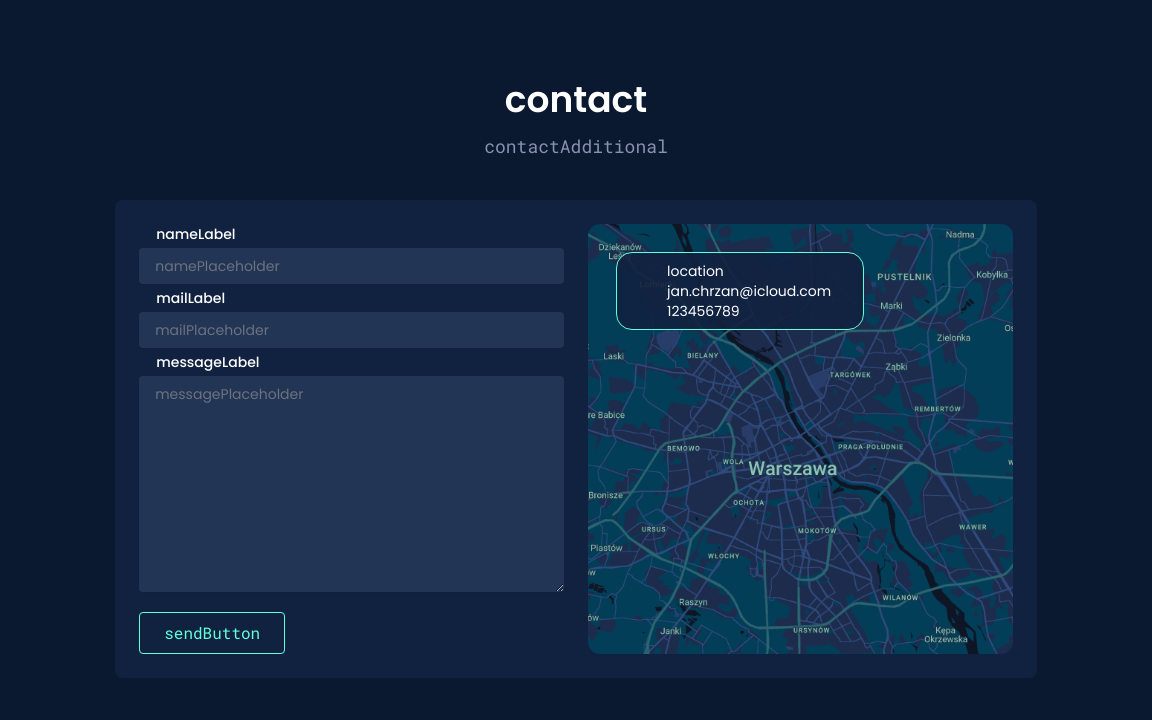
Test case: Contact › Displays error message when email is invalid
Type "test" into the field with placeholder "namePlaceholder". click: point(352, 266)
box: [139,248,564,284]
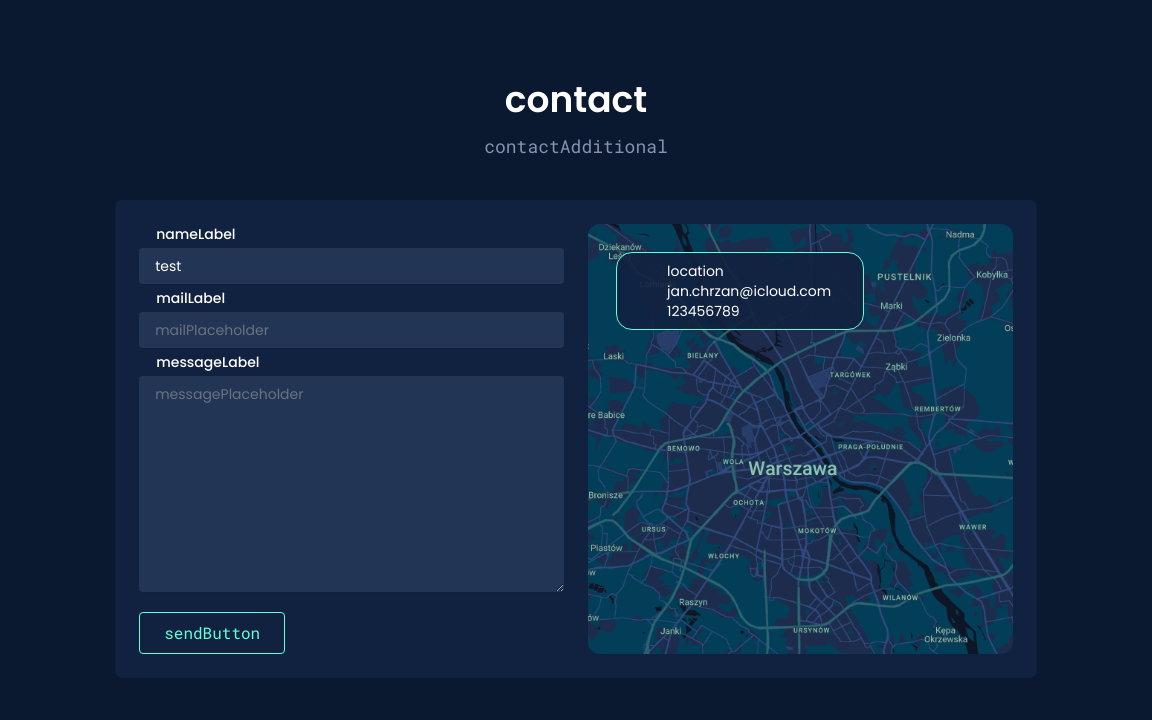
Type "test" into the field with placeholder "mailPlaceholder". click: point(352, 330)
box: [139,312,564,348]
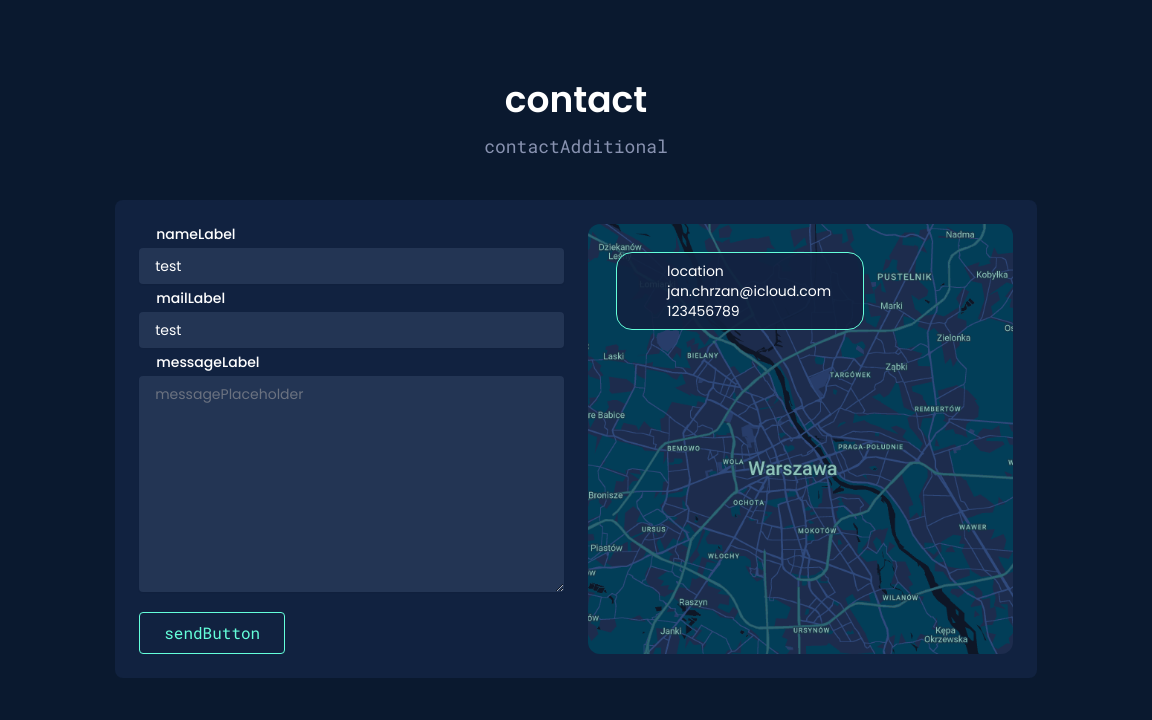
Type "test" into the text box with placeholder "messagePlaceholder". click: point(352, 484)
box: [139,376,564,592]
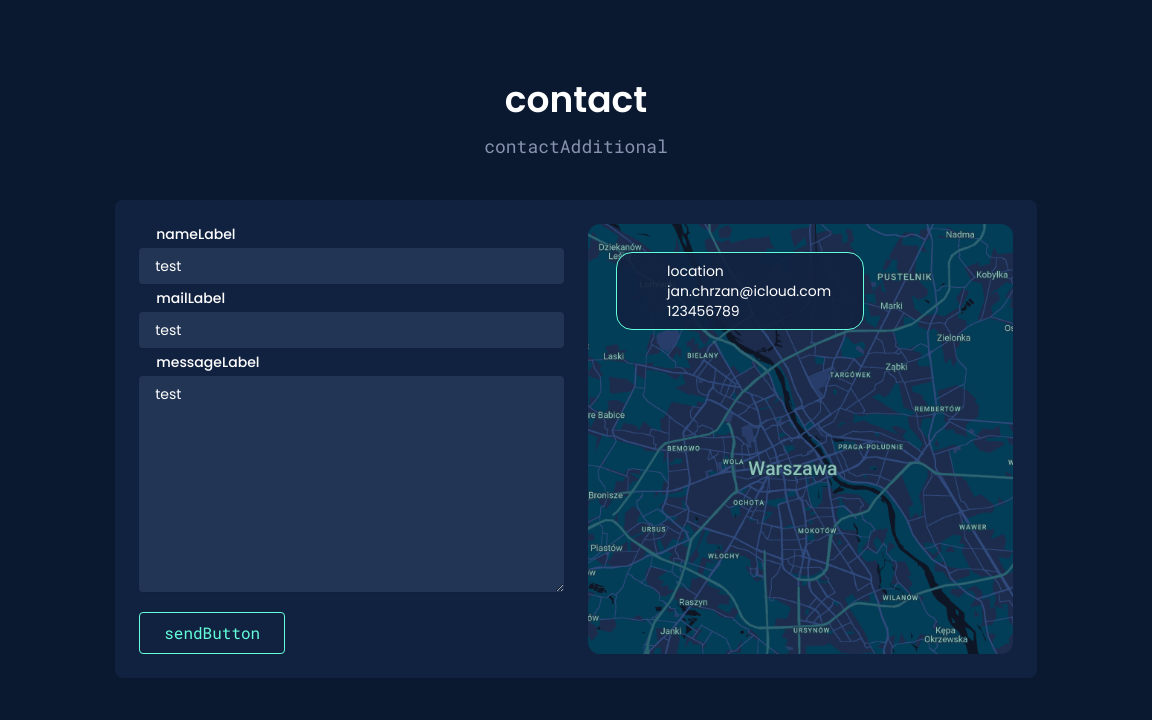
Click the button "sendButton". click: point(212, 633)
box: [139,612,285,654]
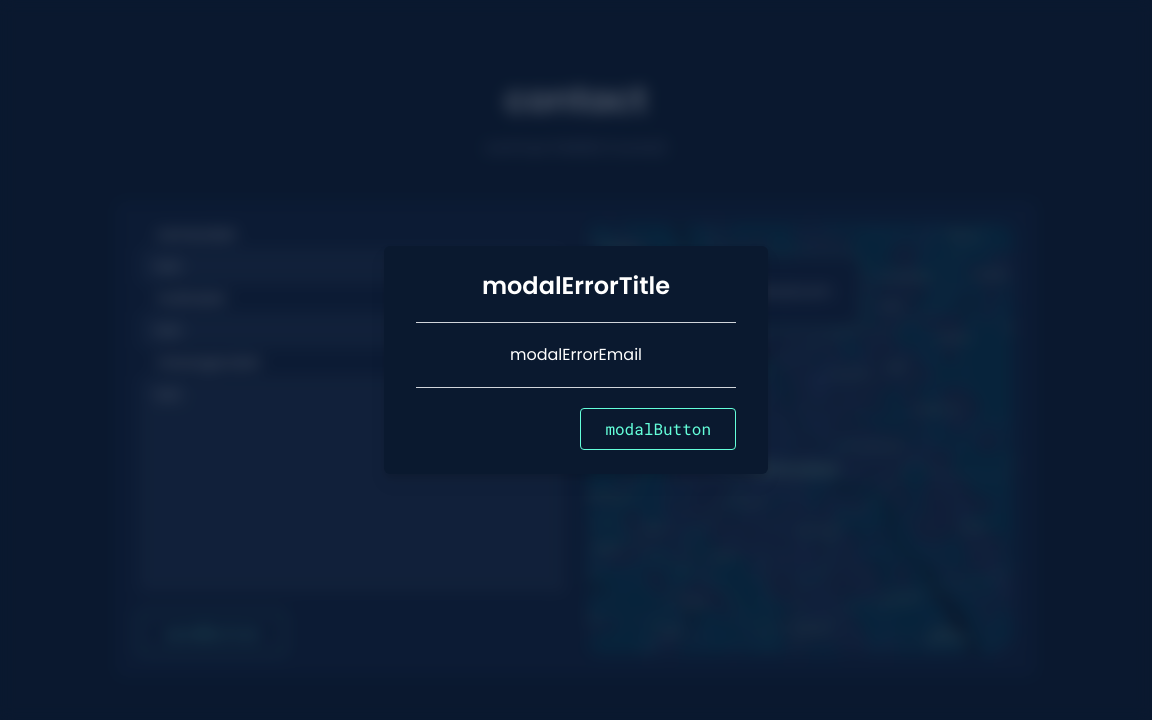
Check: the heading "modalErrorTitle" is shown, box [482,269,670,302]
Check: the text "modalErrorEmail" is shown, box [510,343,642,366]
